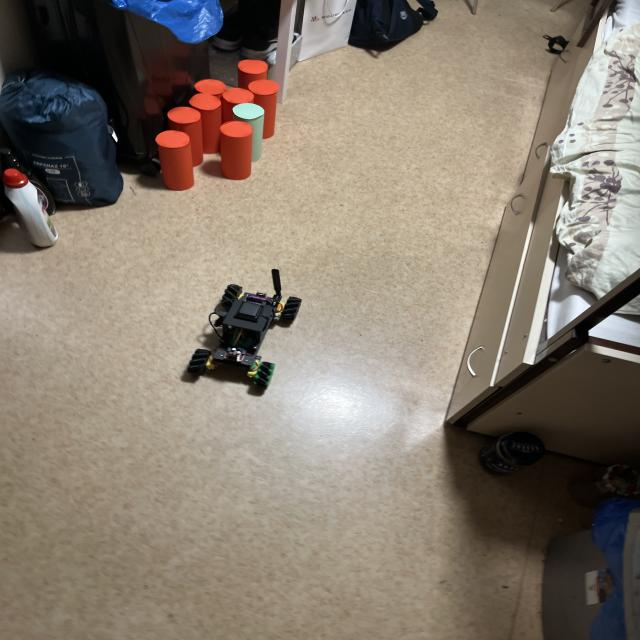robot: (188, 269, 301, 387)
